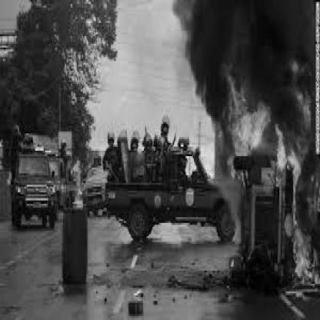Fire: (222, 62, 272, 178)
Smoke: (169, 0, 305, 56)
